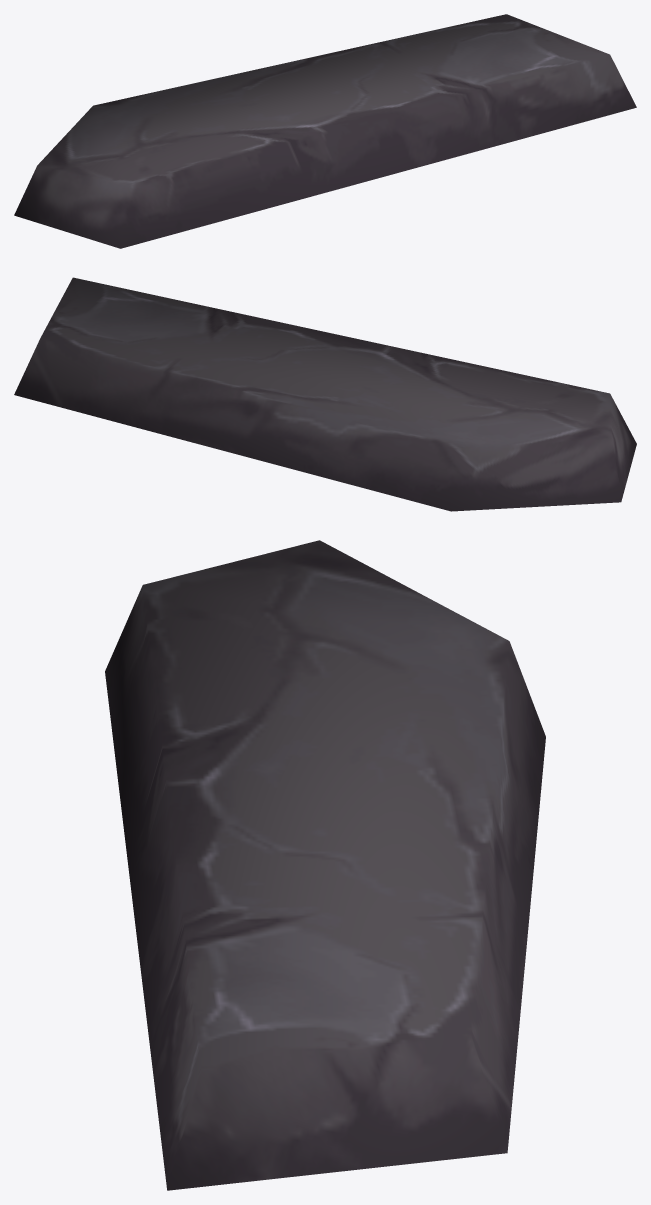
File: yw_shanlin_stones_024.FBX
The picture shows the model from 3 angles, top to bottom: view 1: azimuth 30°, elevation 25°; view 2: azimuth 150°, elevation 25°; view 3: azimuth 270°, elevation 25°; orthographic projection. The views are drawn at different scales.
Visible parts, largest first — view 1: yw_shanlin_stones_024; view 2: yw_shanlin_stones_024; view 3: yw_shanlin_stones_024.
Part boxes in pixels (x1=…): yw_shanlin_stones_024: x1=14, y1=14, x2=636, y2=248; yw_shanlin_stones_024: x1=14, y1=277, x2=636, y2=511; yw_shanlin_stones_024: x1=105, y1=540, x2=545, y2=1190.
Size of the model in its own units: 187 by 15.84 by 61.87.
